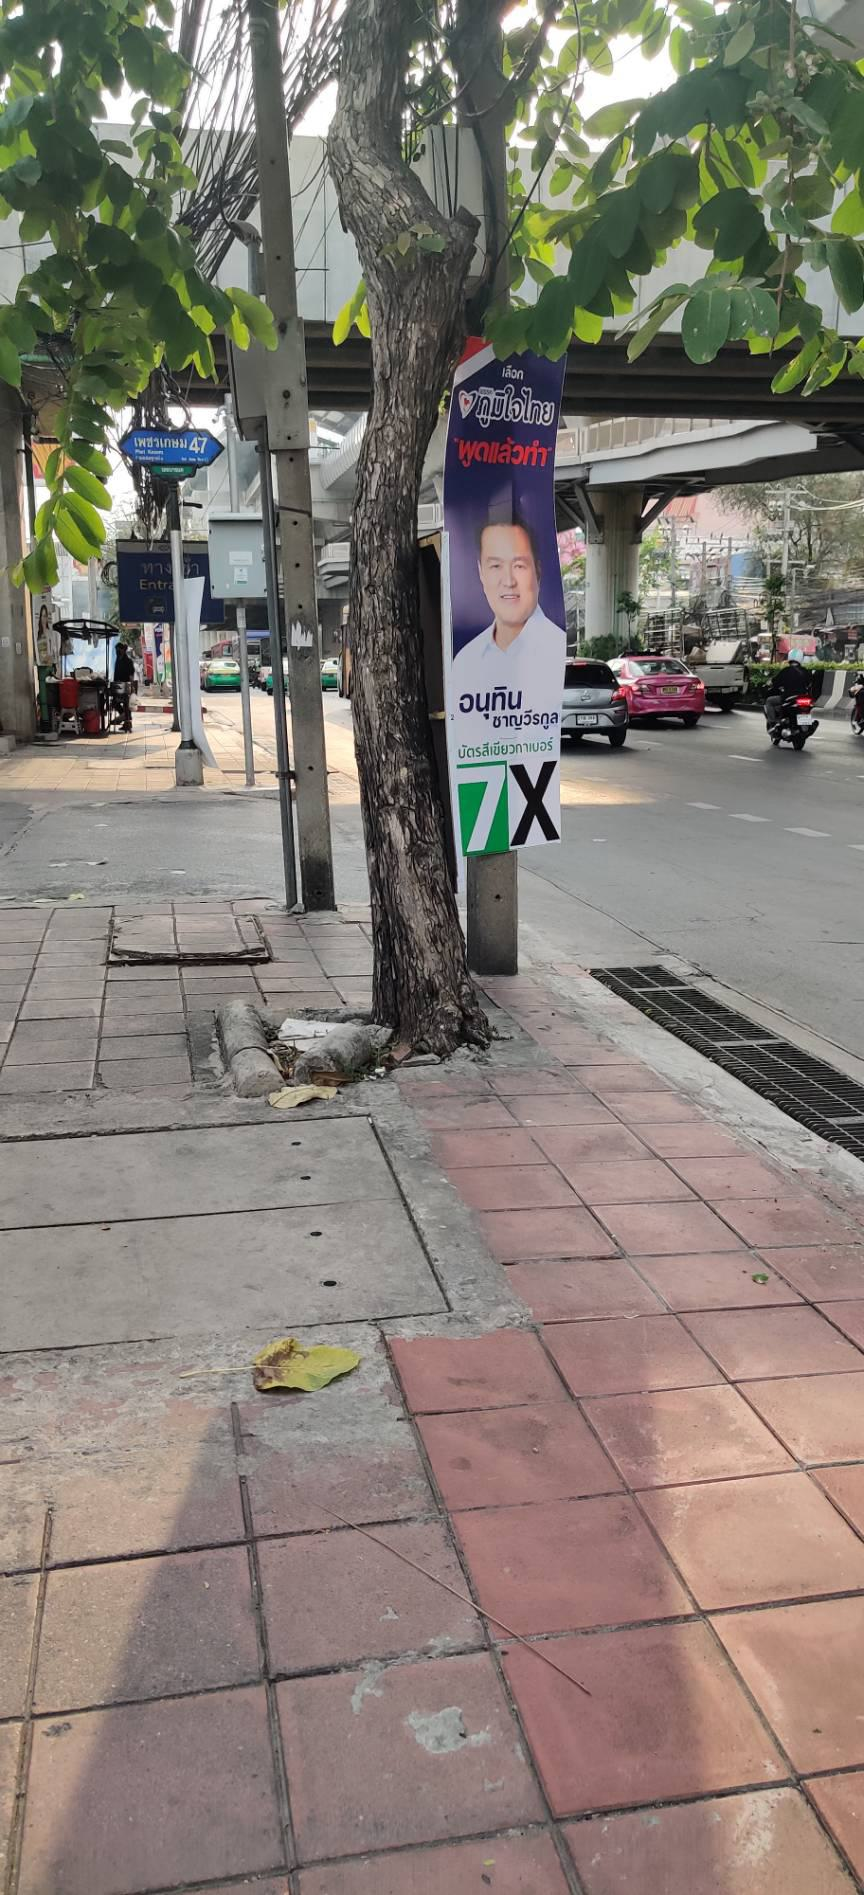Banner: (447, 331, 572, 847)
